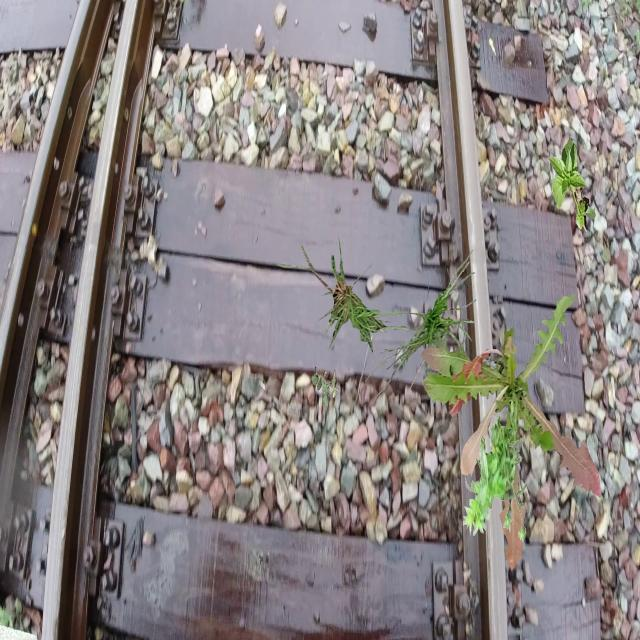Plant: (421, 294, 601, 572), (365, 250, 483, 413), (277, 234, 420, 354), (463, 400, 528, 544), (548, 138, 596, 233), (311, 367, 338, 408)
